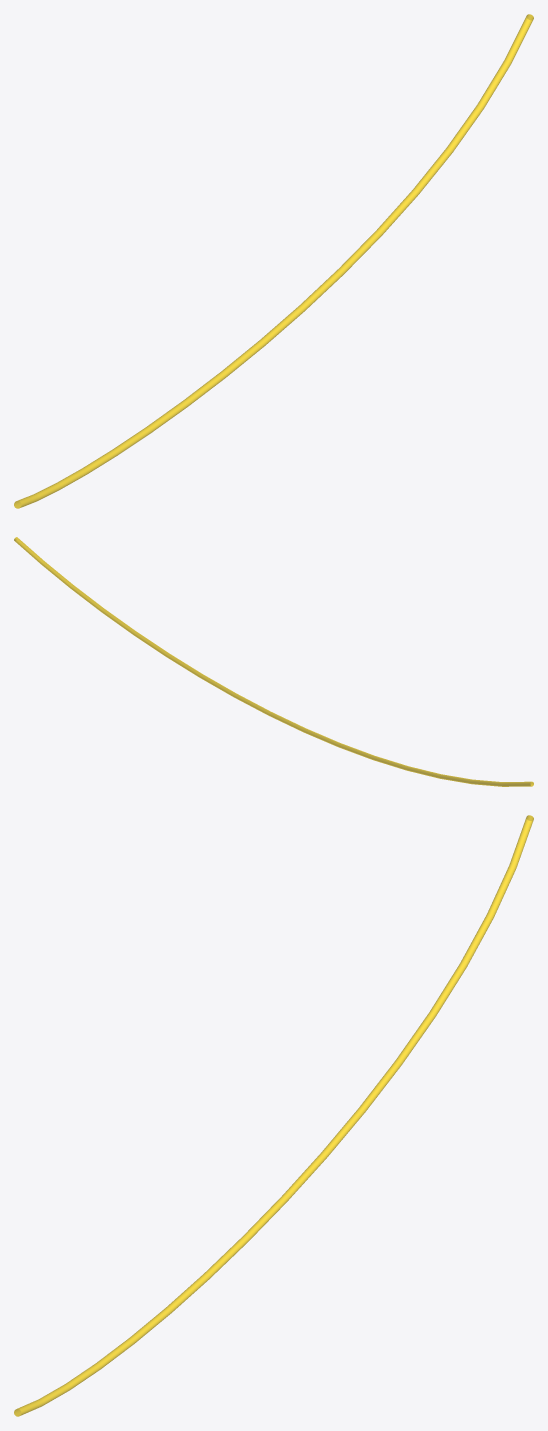
Rendered from Event_100608114_track_26.fbx.
The picture shows the model from 3 angles, top to bottom: view 1: azimuth 90°, elevation 25°; view 2: azimuth 150°, elevation 25°; view 3: azimuth 270°, elevation 25°; orthographic projection. The views are drawn at different scales.
Parts seen in each view (by area): view 1: Model; view 2: Model; view 3: Model.
Boxes of the visible parts, bbox=[...] form: Model: bbox=[14, 14, 533, 508]; Model: bbox=[14, 537, 533, 786]; Model: bbox=[14, 815, 533, 1416].
Size of the model in its own units: 6.51 by 0.6684 by 2.64.
